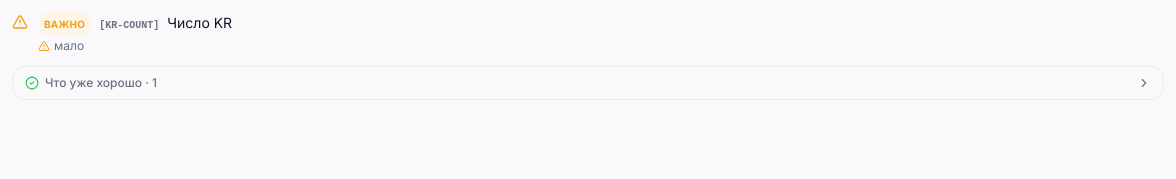
Test: RuleList — неприменимые правила (OKR-PI) › показывает правило с applicable=false серым с пометкой, без иконки провала
Click the button "Что уже хорошо · 1": (99, 82) x1=13 y1=67 x2=1163 y2=99
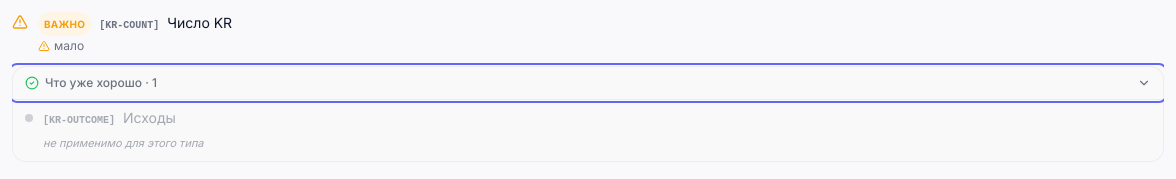
Expected: the list item with test id "rule-na-KR-OUTCOME" shows "не применимо для этого типа", x1=43 y1=136 x2=204 y2=150
